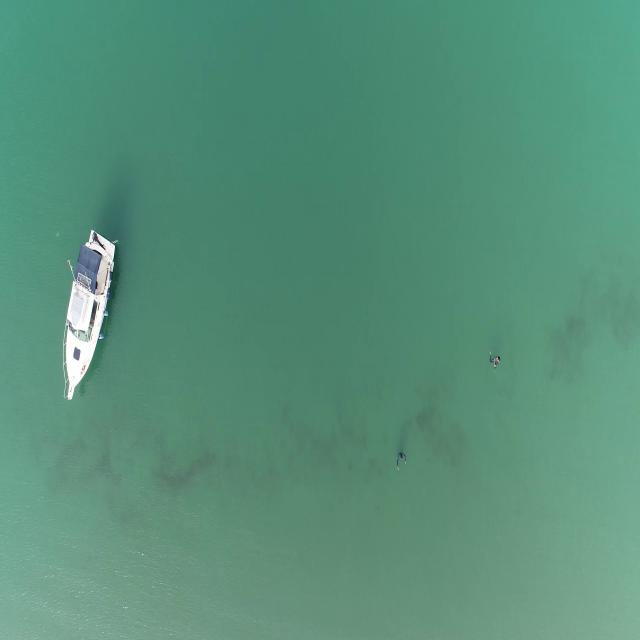boat: (58, 230, 119, 404)
person: (395, 451, 409, 473), (489, 350, 501, 373)
